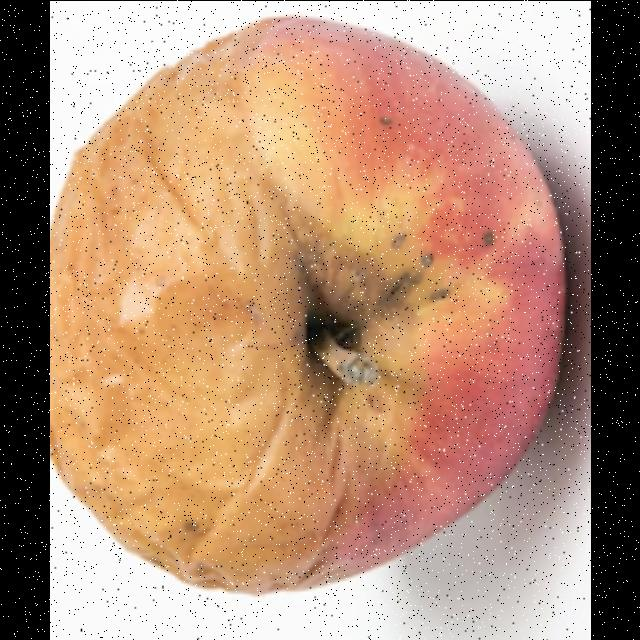Apel Tidak Segar: (49, 11, 573, 591)
